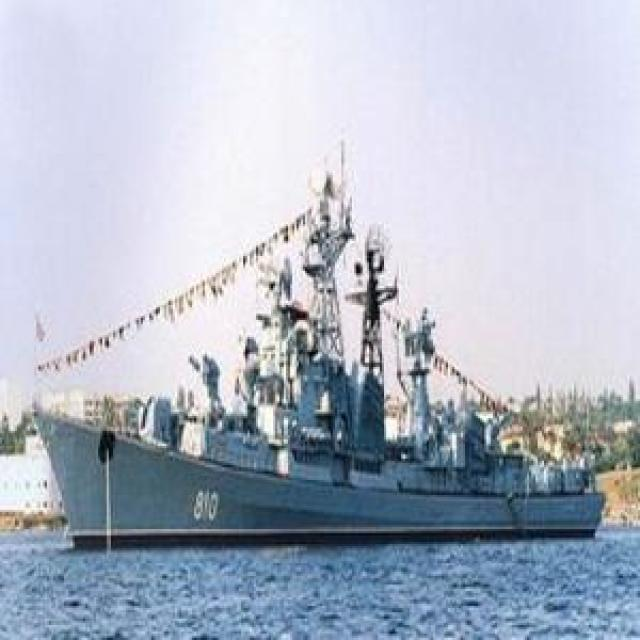navalvessels: (19, 207, 610, 562)
